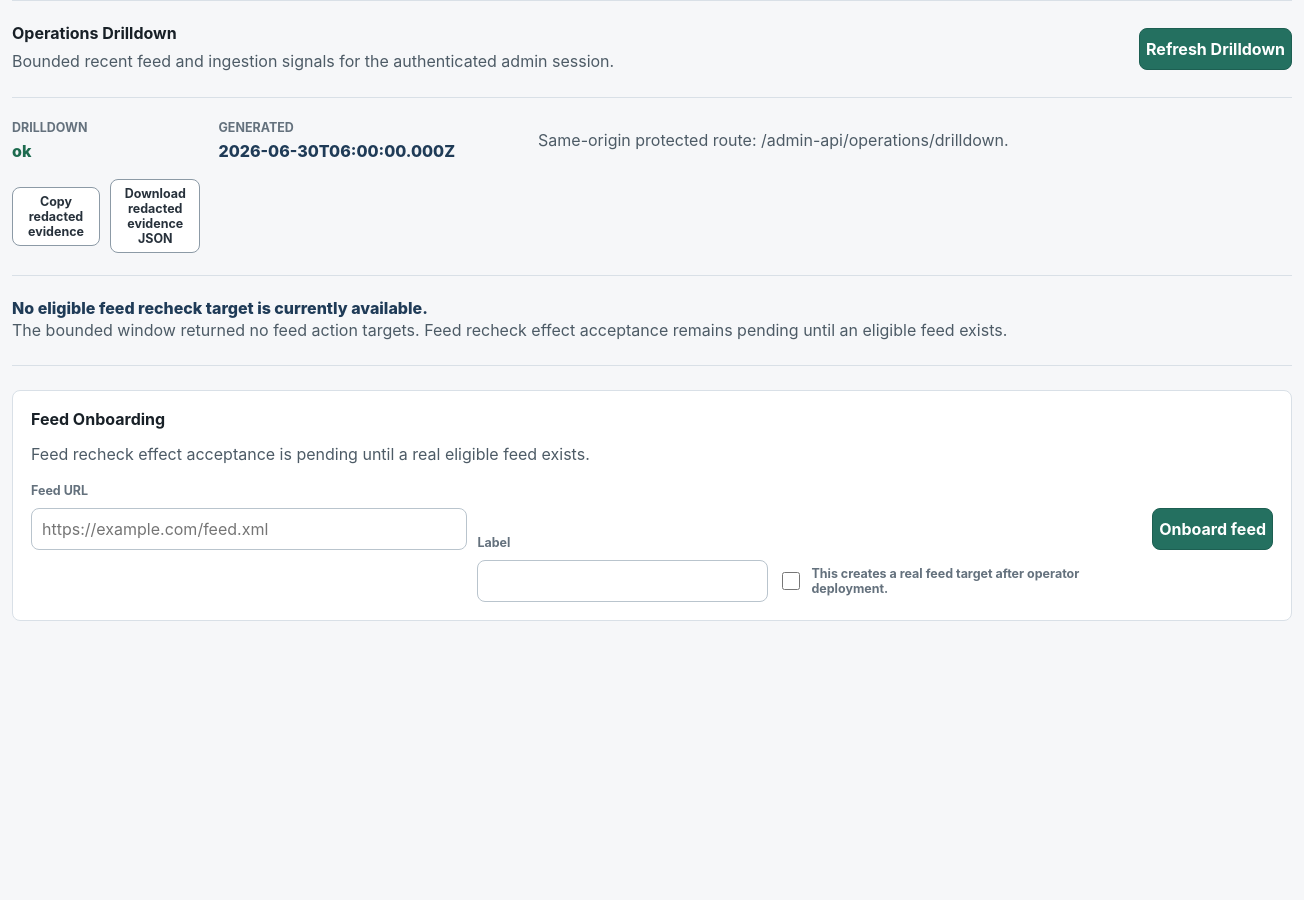
it: OperationsDrilldown › submits feed onboarding with explicit confirmation and renders only safe response fields
Type "https://news.example.org/feed.xml?private=1" into the field labelled "Feed URL" at (249, 529), box [31,508,468,550]
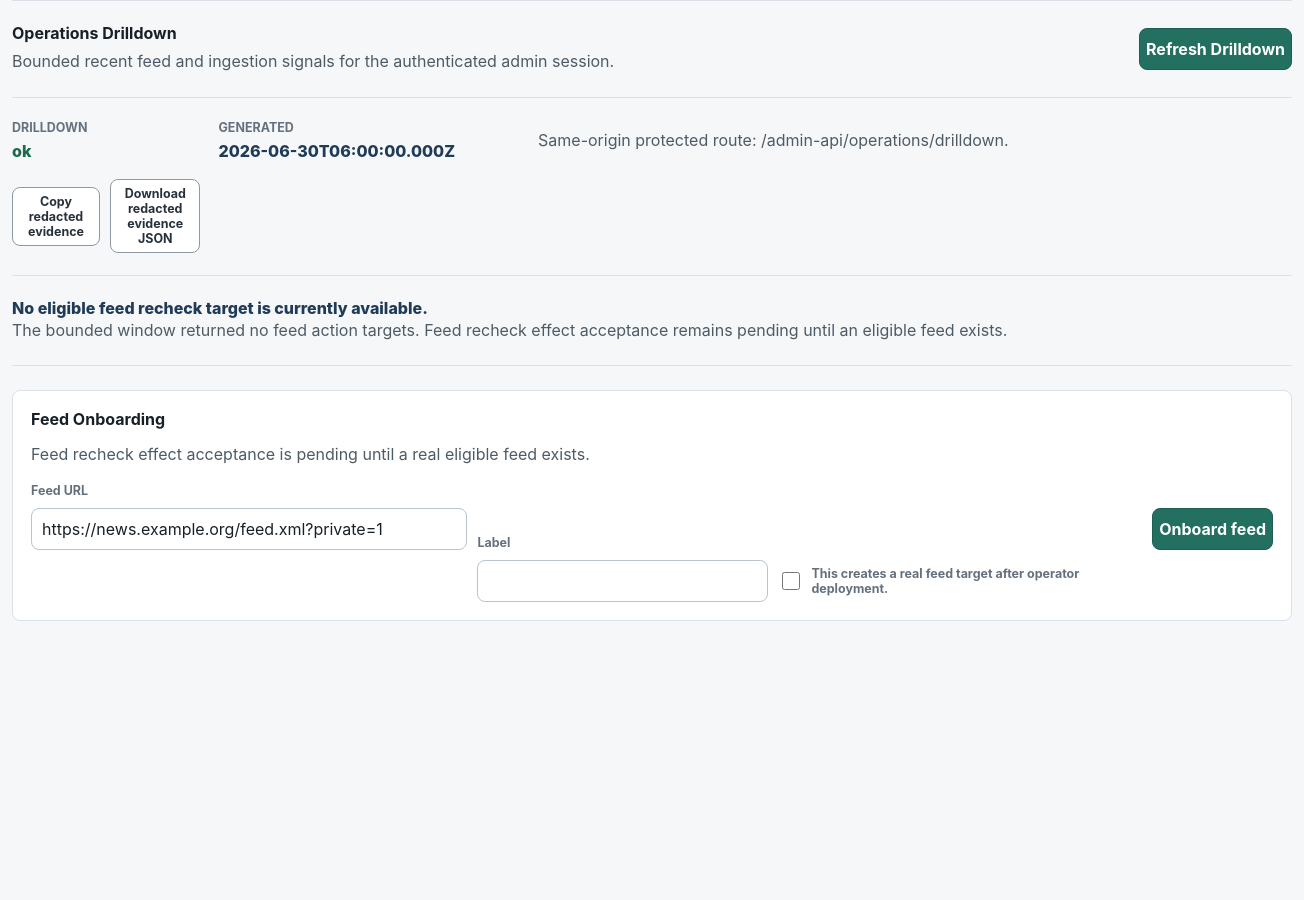
Type "Example News" into the field labelled "Label" at (623, 581), box [478,560,768,602]
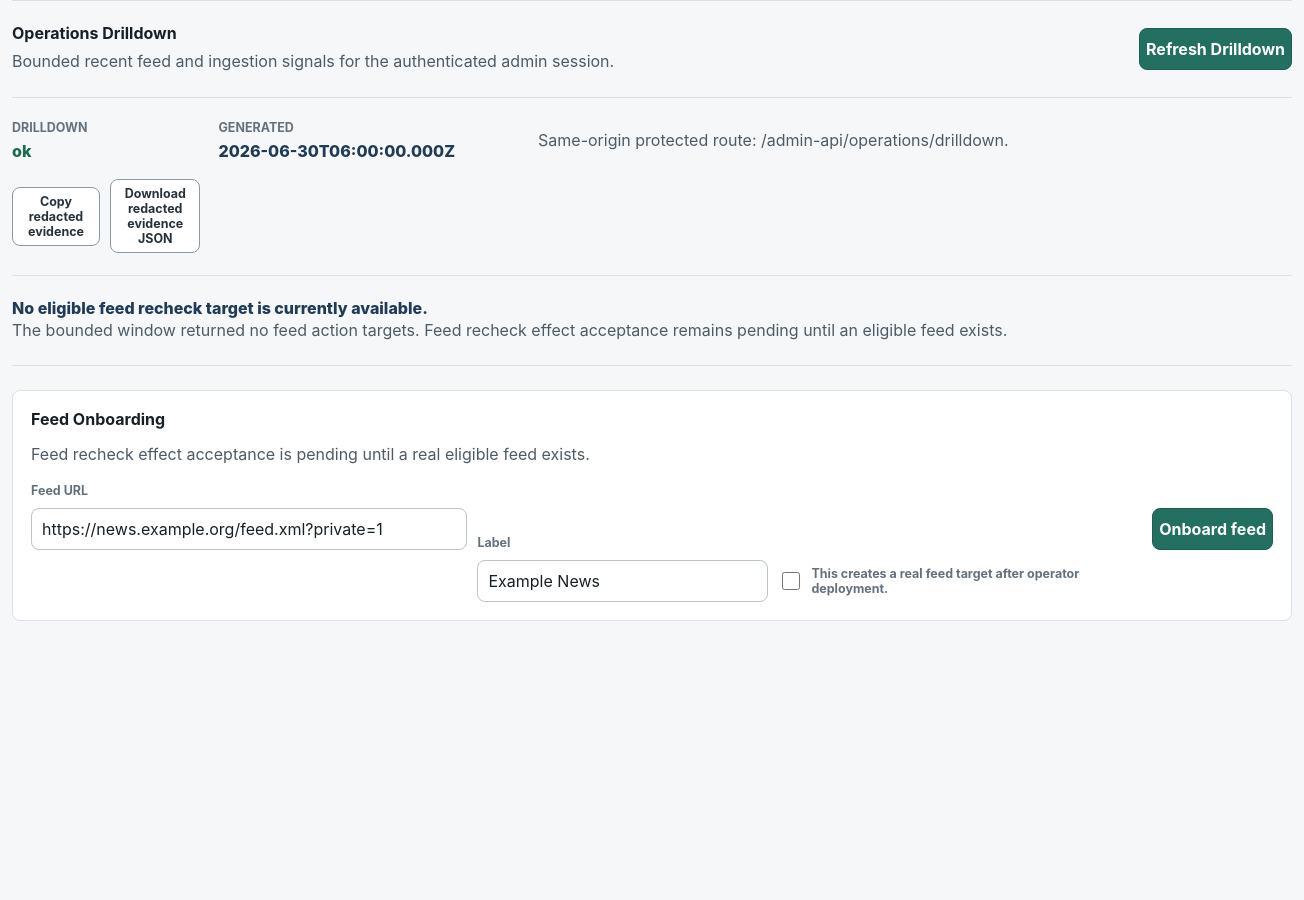
Click the checkbox labelled "This creates a real feed target after operator deployment." at (792, 581), box [782,572,800,590]
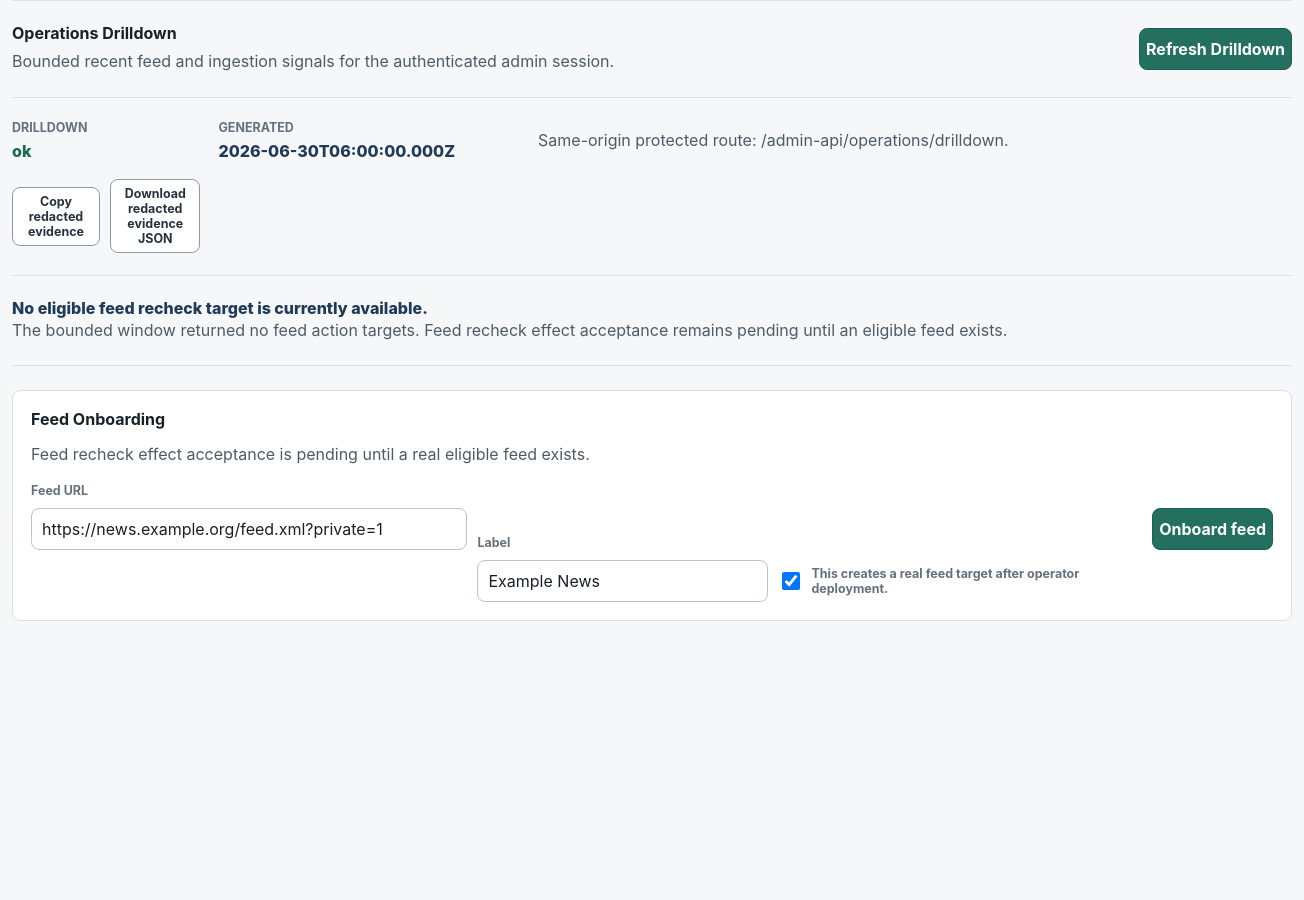
Click the button "Onboard feed" at (1213, 529), box [1152,508,1273,550]
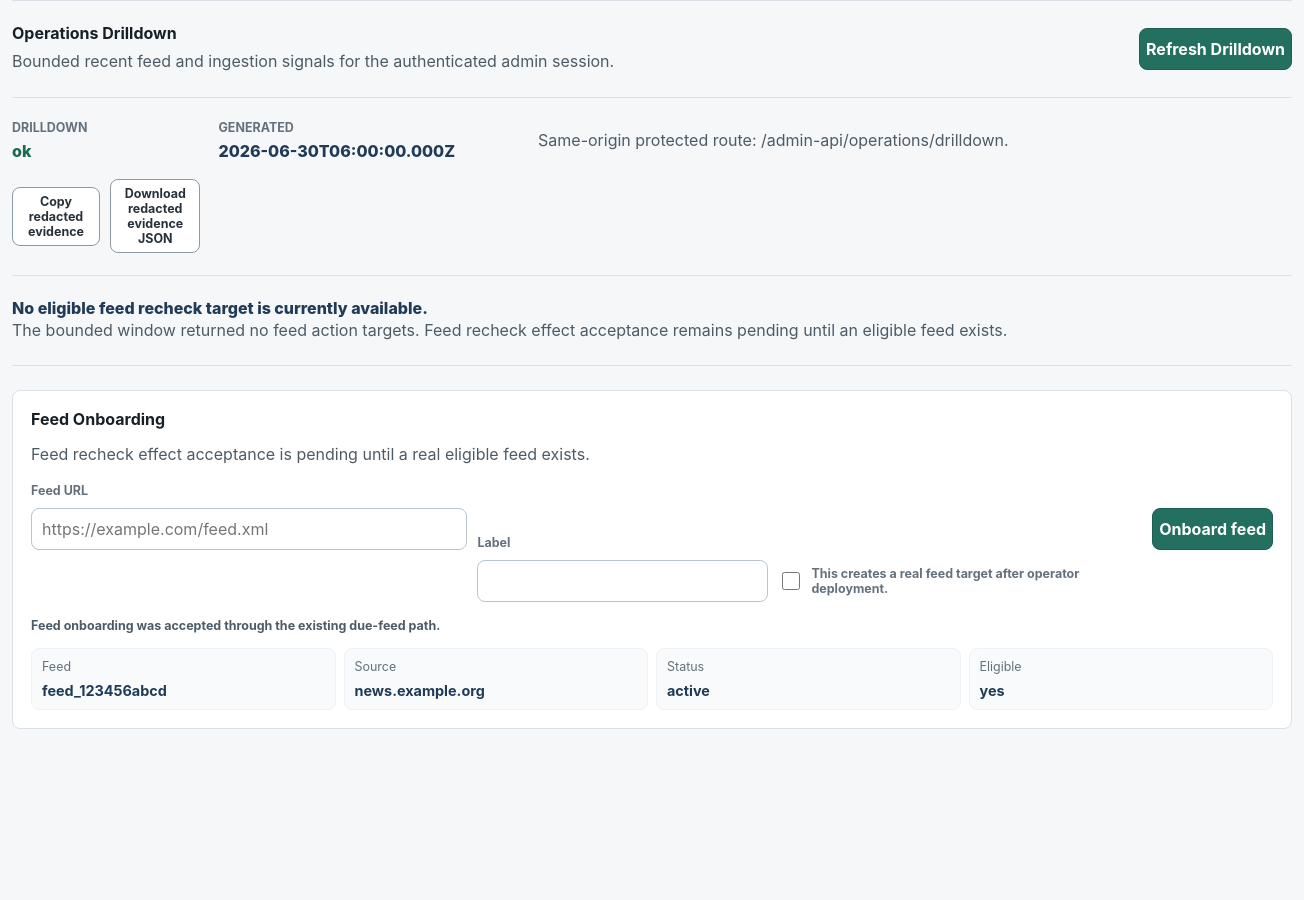
Check: the text "Feed onboarding was accepted through the existing due-feed path." is shown, box [31,618,440,633]
Check: the text "feed_123456abcd" is shown, box [42,682,167,699]
Check: the text "news.example.org" is shown, box [354,682,485,699]
